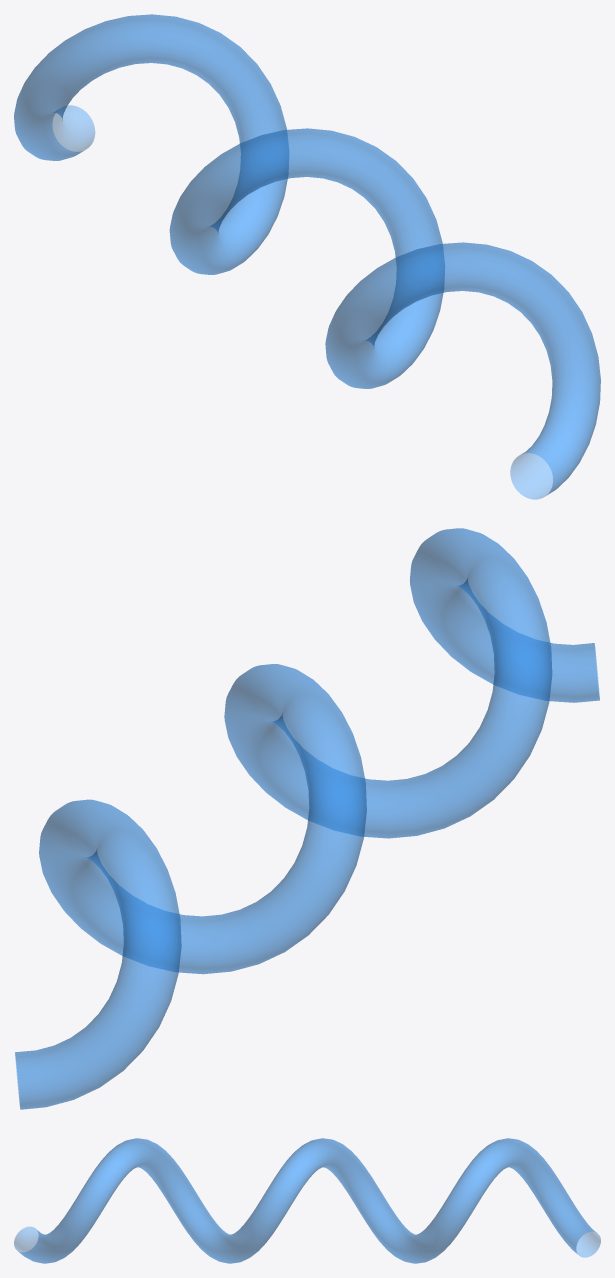
The model's file is spiral_fine.obj.
3 views of the same model, one above another, from view 1: azimuth 30°, elevation 25°; view 2: azimuth 150°, elevation 25°; view 3: azimuth 270°, elevation 25° (orthographic). The views are drawn at different scales.
Parts seen in each view (by area): view 1: Spiral.001; view 2: Spiral.001; view 3: Spiral.001.
Part boxes in pixels (bbox=[...]): Spiral.001: bbox=[14, 14, 600, 499]; Spiral.001: bbox=[15, 528, 599, 1109]; Spiral.001: bbox=[14, 1138, 600, 1263].
Size of the model in its own units: 0.2586 by 0.26 by 1.22.
